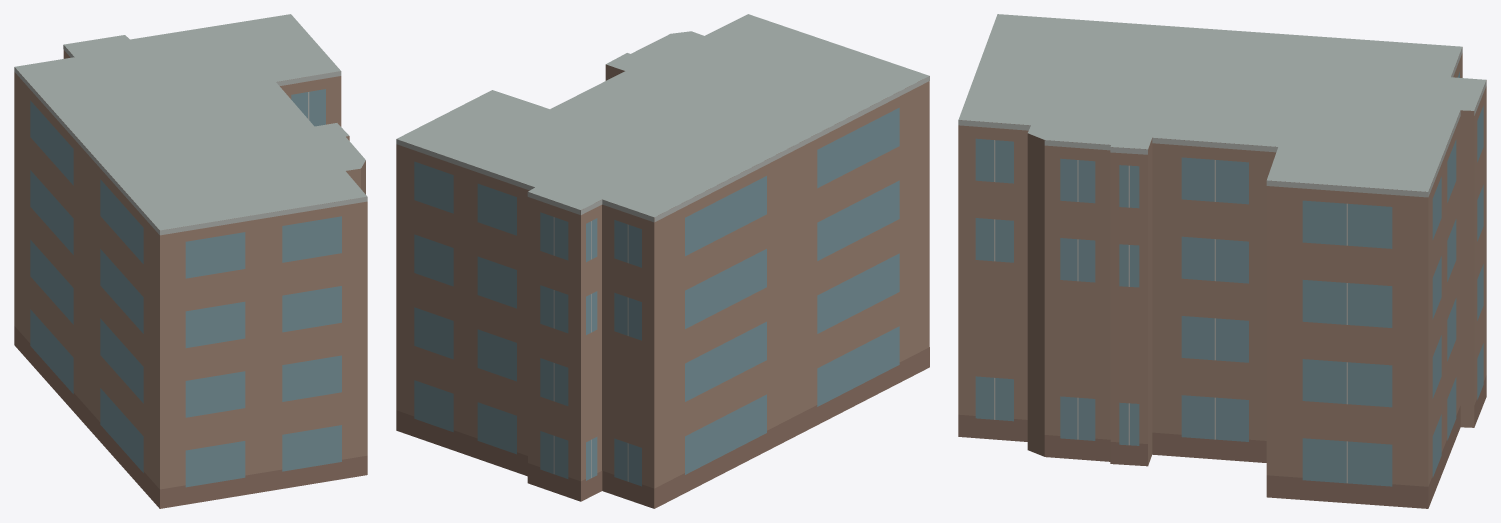
File: survey-upis-32622146.glb
3 views of the same model, side by side, from view 1: azimuth 30°, elevation 25°; view 2: azimuth 150°, elevation 25°; view 3: azimuth 270°, elevation 25° (orthographic). The views are drawn at different scales.
Parts seen in each view (by area): view 1: survey-upis-32622146.tmp; view 2: survey-upis-32622146.tmp; view 3: survey-upis-32622146.tmp.
Boxes of the visible parts, x1=… form: survey-upis-32622146.tmp: x1=14, y1=14, x2=367, y2=508; survey-upis-32622146.tmp: x1=396, y1=14, x2=929, y2=508; survey-upis-32622146.tmp: x1=958, y1=14, x2=1486, y2=508.
Bounding box in the file's own units: 16.87 × 14 × 21.15.
